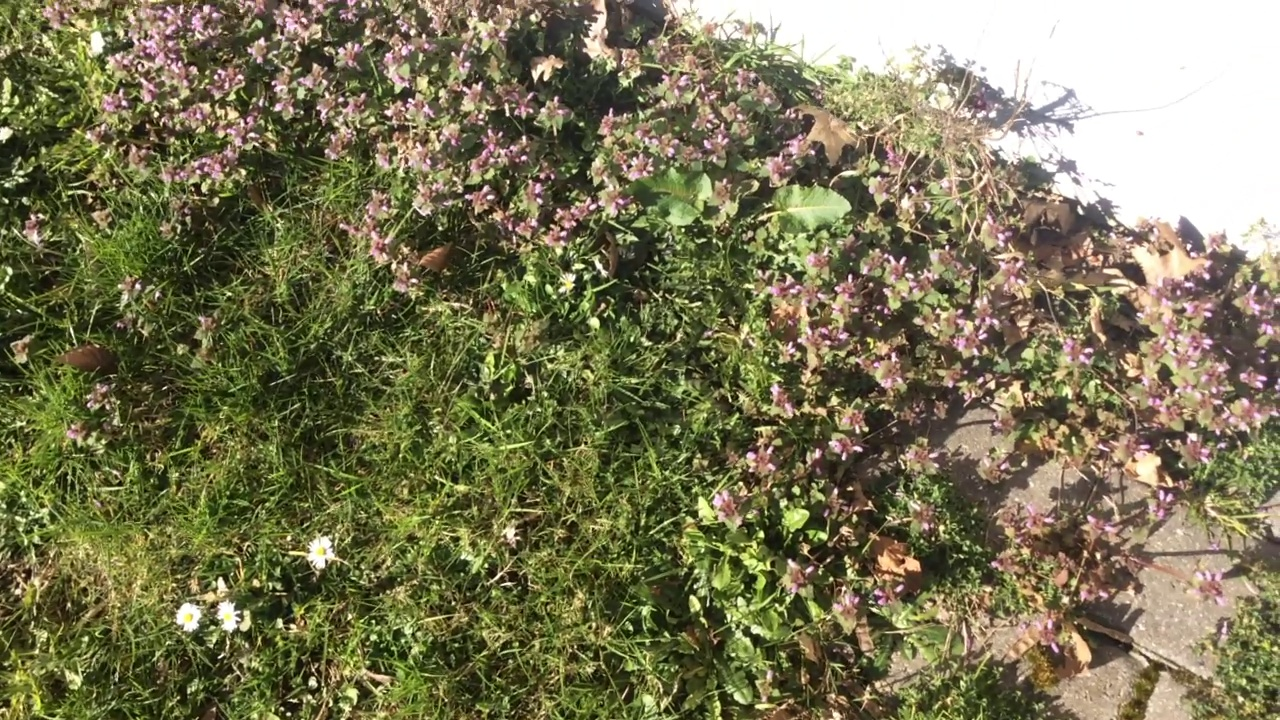rumex: (615, 169, 854, 238)
